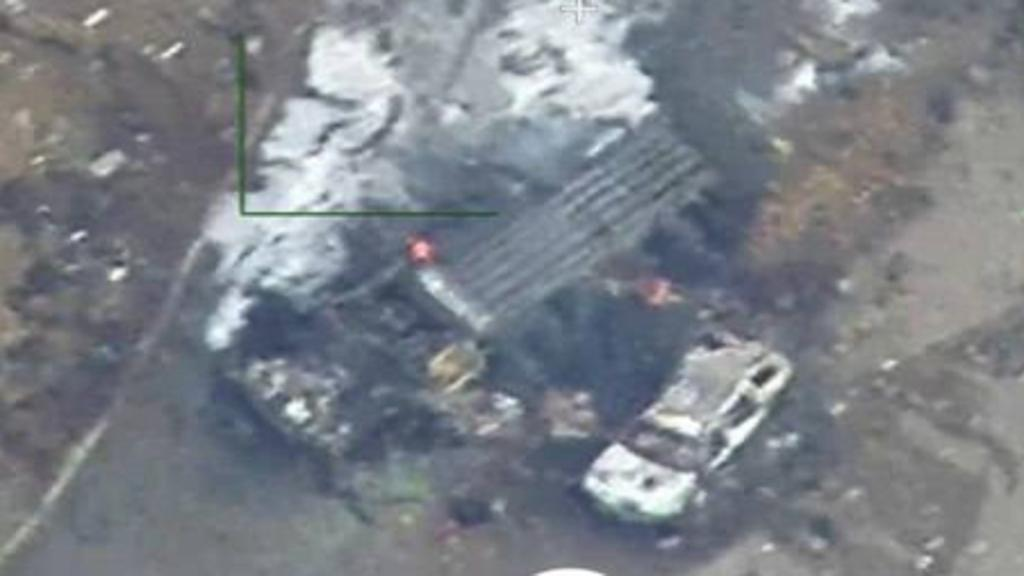CAR: (574, 323, 796, 533)
MLRS: (224, 116, 716, 468)
